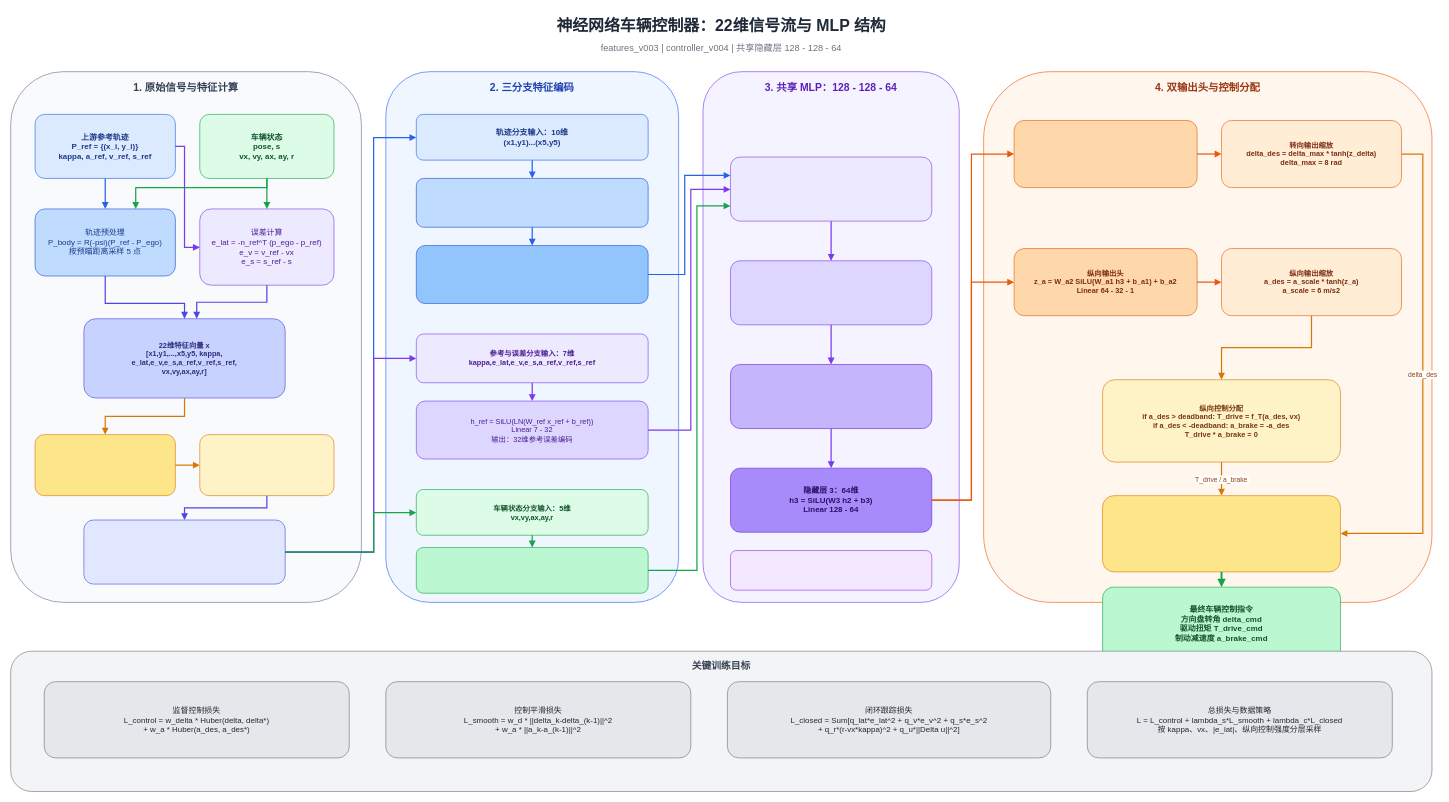
Some shapes in this 1449 by 802 pixel diagram are drawn without their labels. The shapes that lost their labels are listed below. From the top down, each one's centre as x and y in pixels, then its label:
the point at 1105,154: 转向输出头 z_delta = W_d2 SiLU(W_d1 h3 + b_d1) + b_d2 Linear 64 - 32 - 1
the point at 532,202: h_t1 = SiLU(LN(W_t1 x_traj + b_t1)) Linear 10 - 64
the point at 831,188: 特征融合 h0 = Concat(h_traj, h_ref, h_state) 64 + 32 + 32 = 128维
the point at 532,274: h_traj = SiLU(W_t2 h_t1 + b_t2) Linear 64 - 64 输出：64维轨迹编码
the point at 831,292: 隐藏层 1：128维 h1 = SiLU(LN(W1 h0 + b1)) Linear 128 - 128
the point at 831,396: 隐藏层 2：128维 h2 = SiLU(W2 h1 + b2) Linear 128 - 128
the point at 104,465: 输入校验 有限值 / 时间戳 / 物理范围 无效输入 -> 传统控制器降级
the point at 266,465: 归一化与裁剪 x_hat_j = clip((x_j - mu_j)/(sigma_j + eps), -5, 5)
the point at 184,551: 特征切片 x_traj = x_hat[0:10] x_ref = x_hat[10:17] x_state = x_hat[17:22]
the point at 1221,533: 执行器约束与安全监督 幅值限制 + 变化率限制 + jerk限制 e_lat / ay / r / 车速边界 异常时切换传统控制器
the point at 532,570: h_state = SiLU(LN(W_s x_state + b_s)) Linear 5 - 32 输出：32维车辆状态编码
the point at 831,570: 共享 MLP 主干 128 - 128 - 64 激活函数：SiLU
